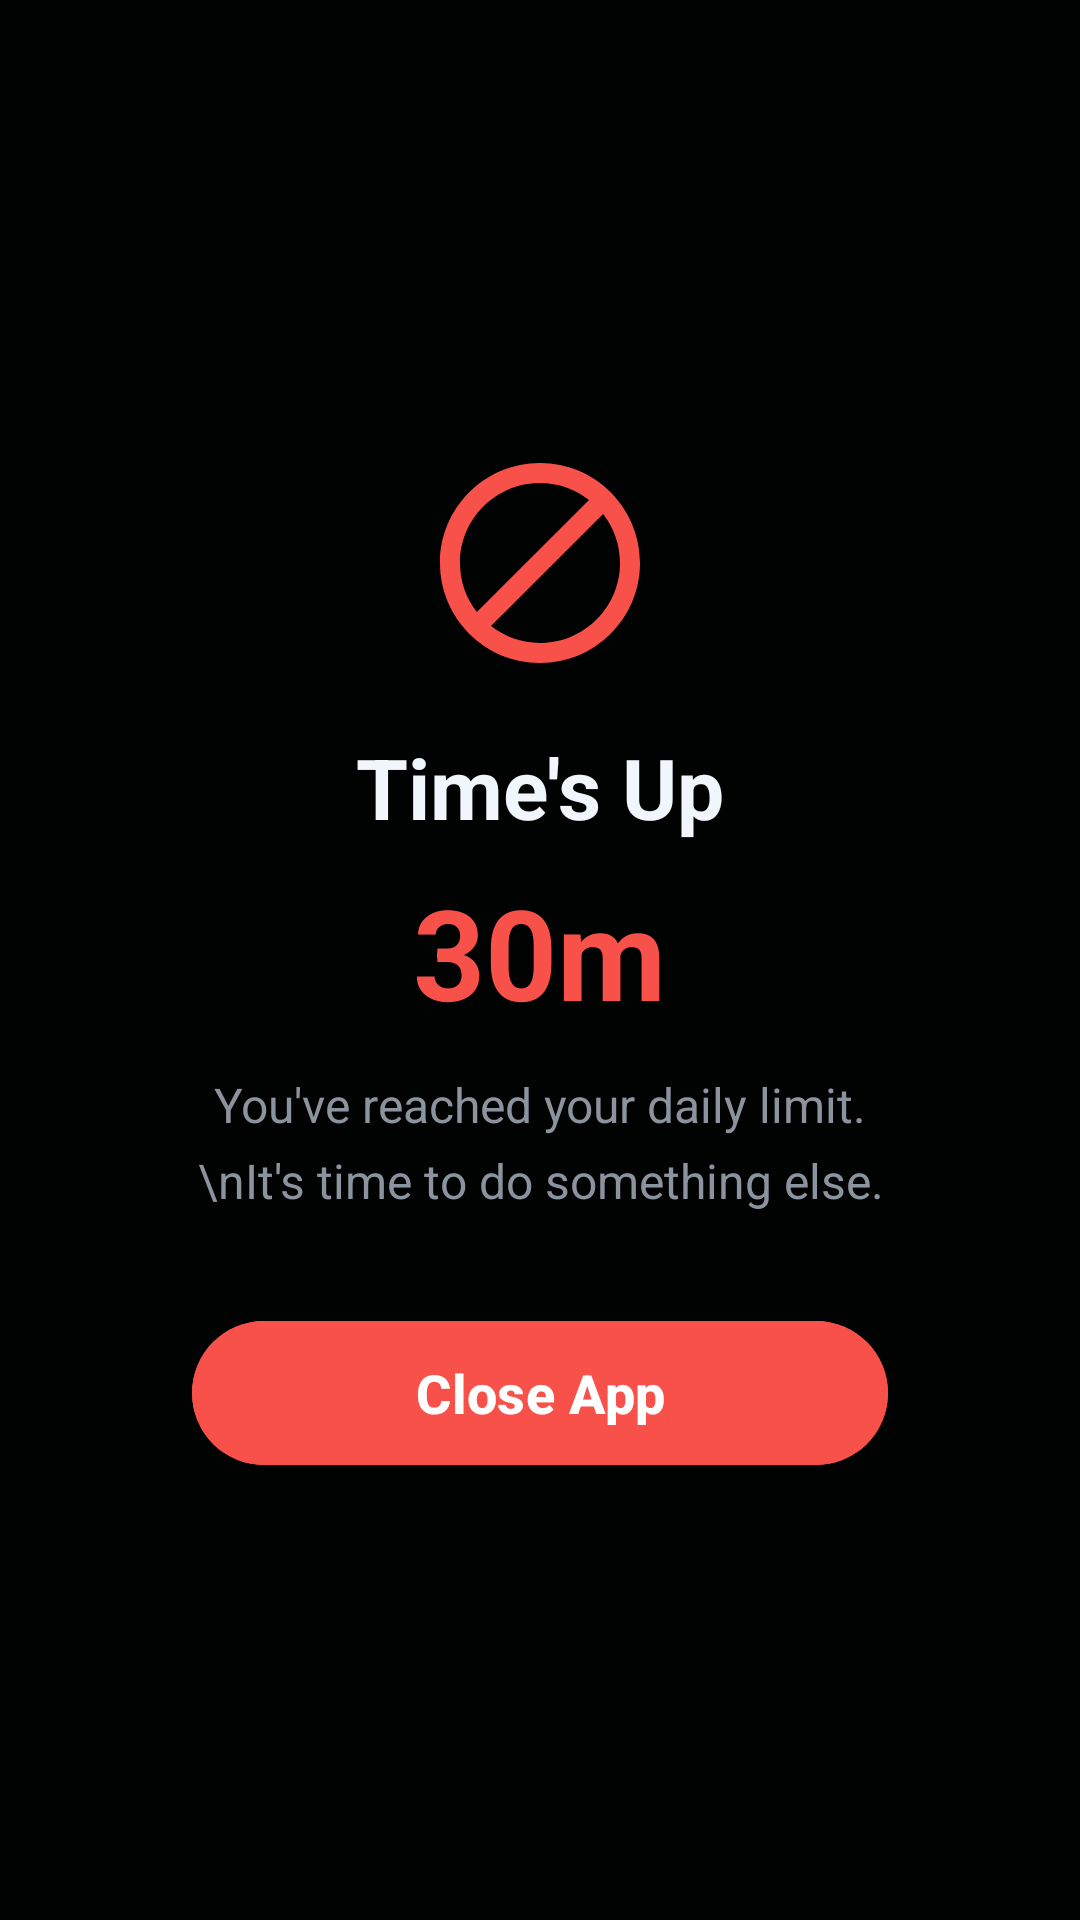

Named icons in this screenshot (1080×1920) and their centers, point (x, y):
block: point (539, 563)
